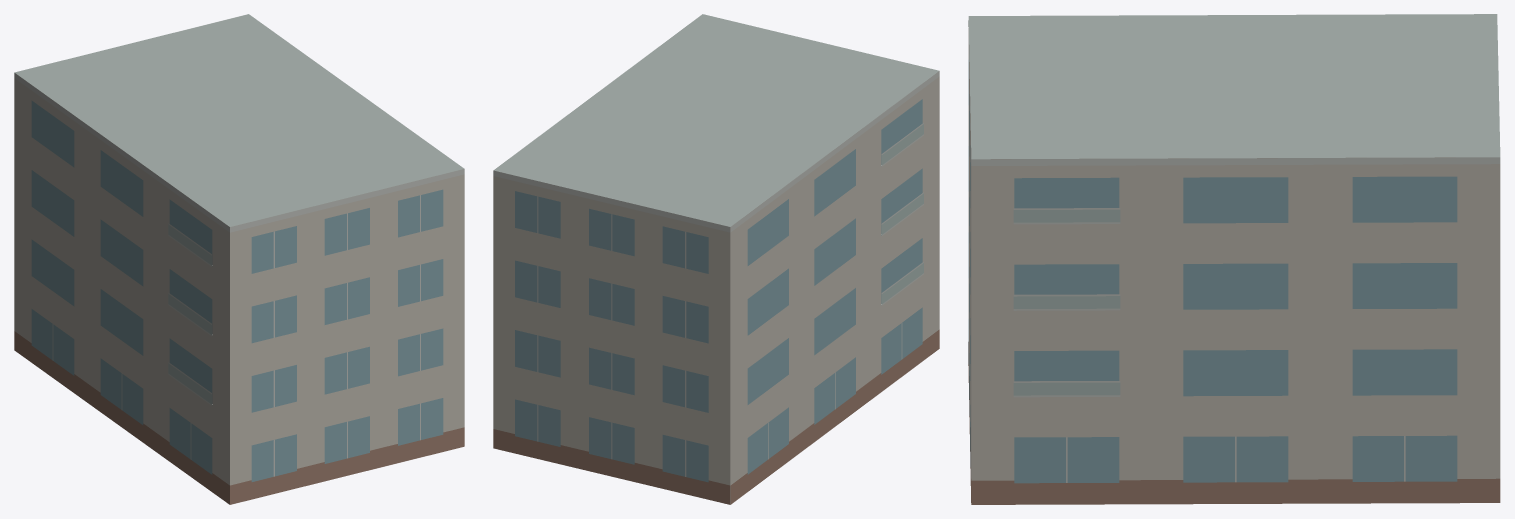
File: residential-e0e3e086-a07b-4abf-9a04-24e87060144c.glb
The picture shows the model from 3 angles, left to right: view 1: azimuth 30°, elevation 25°; view 2: azimuth 150°, elevation 25°; view 3: azimuth 270°, elevation 25°; orthographic projection. The views are drawn at different scales.
Parts seen in each view (by area): view 1: residential-e0e3e086-a07b-4abf-9a04-24e87060144c.tmp; view 2: residential-e0e3e086-a07b-4abf-9a04-24e87060144c.tmp; view 3: residential-e0e3e086-a07b-4abf-9a04-24e87060144c.tmp.
Part boxes in pixels (x1,y1,x2,y2): residential-e0e3e086-a07b-4abf-9a04-24e87060144c.tmp: (14,14,464,504); residential-e0e3e086-a07b-4abf-9a04-24e87060144c.tmp: (493,14,939,504); residential-e0e3e086-a07b-4abf-9a04-24e87060144c.tmp: (968,14,1500,504).
Bounding box in the file's own units: 11.02 × 12.2 × 17.02.
